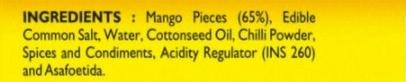ingredients: (15, 6, 331, 75)
